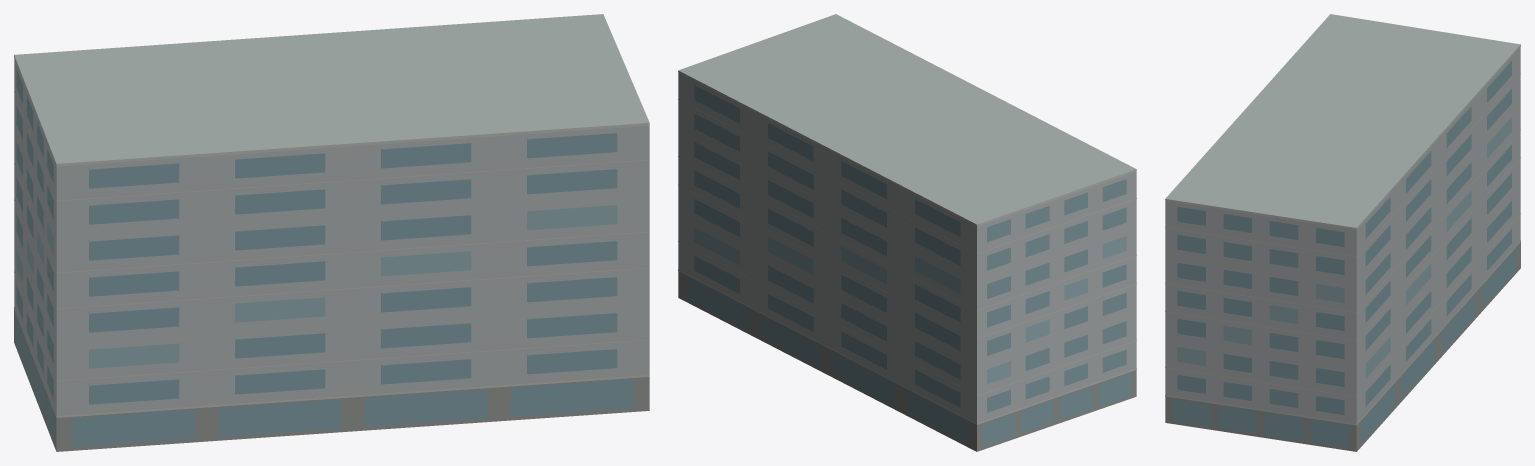
Rendered from survey-upis-32511362.glb.
3 renders of one model, left to right at view 1: azimuth 30°, elevation 25°; view 2: azimuth 150°, elevation 25°; view 3: azimuth 270°, elevation 25°, orthographic. The views are drawn at different scales.
Parts seen in each view (by area): view 1: survey-upis-32511362.tmp; view 2: survey-upis-32511362.tmp; view 3: survey-upis-32511362.tmp.
Part boxes in pixels (x1,y1,x2,y2): survey-upis-32511362.tmp: [14, 14, 649, 451]; survey-upis-32511362.tmp: [678, 14, 1136, 451]; survey-upis-32511362.tmp: [1165, 14, 1520, 451].
Bounding box in the file's own units: 49.2 × 24 × 34.56.
